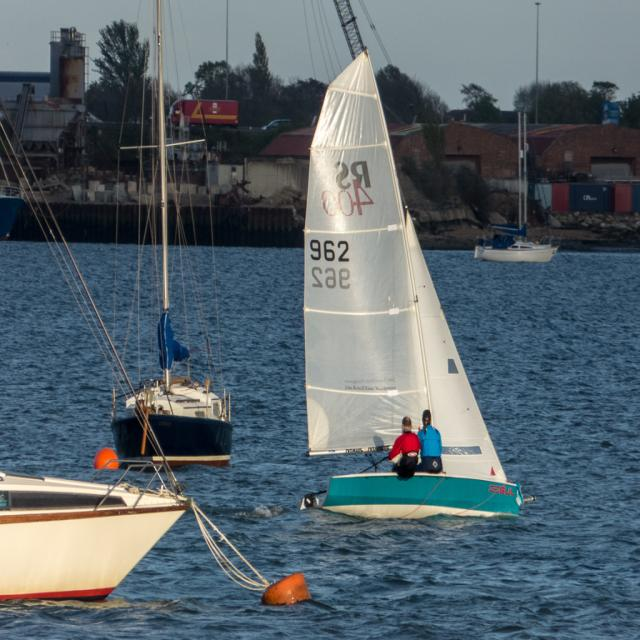Boat: (292, 21, 524, 552), (0, 100, 194, 607), (108, 0, 233, 478), (472, 111, 559, 262)
